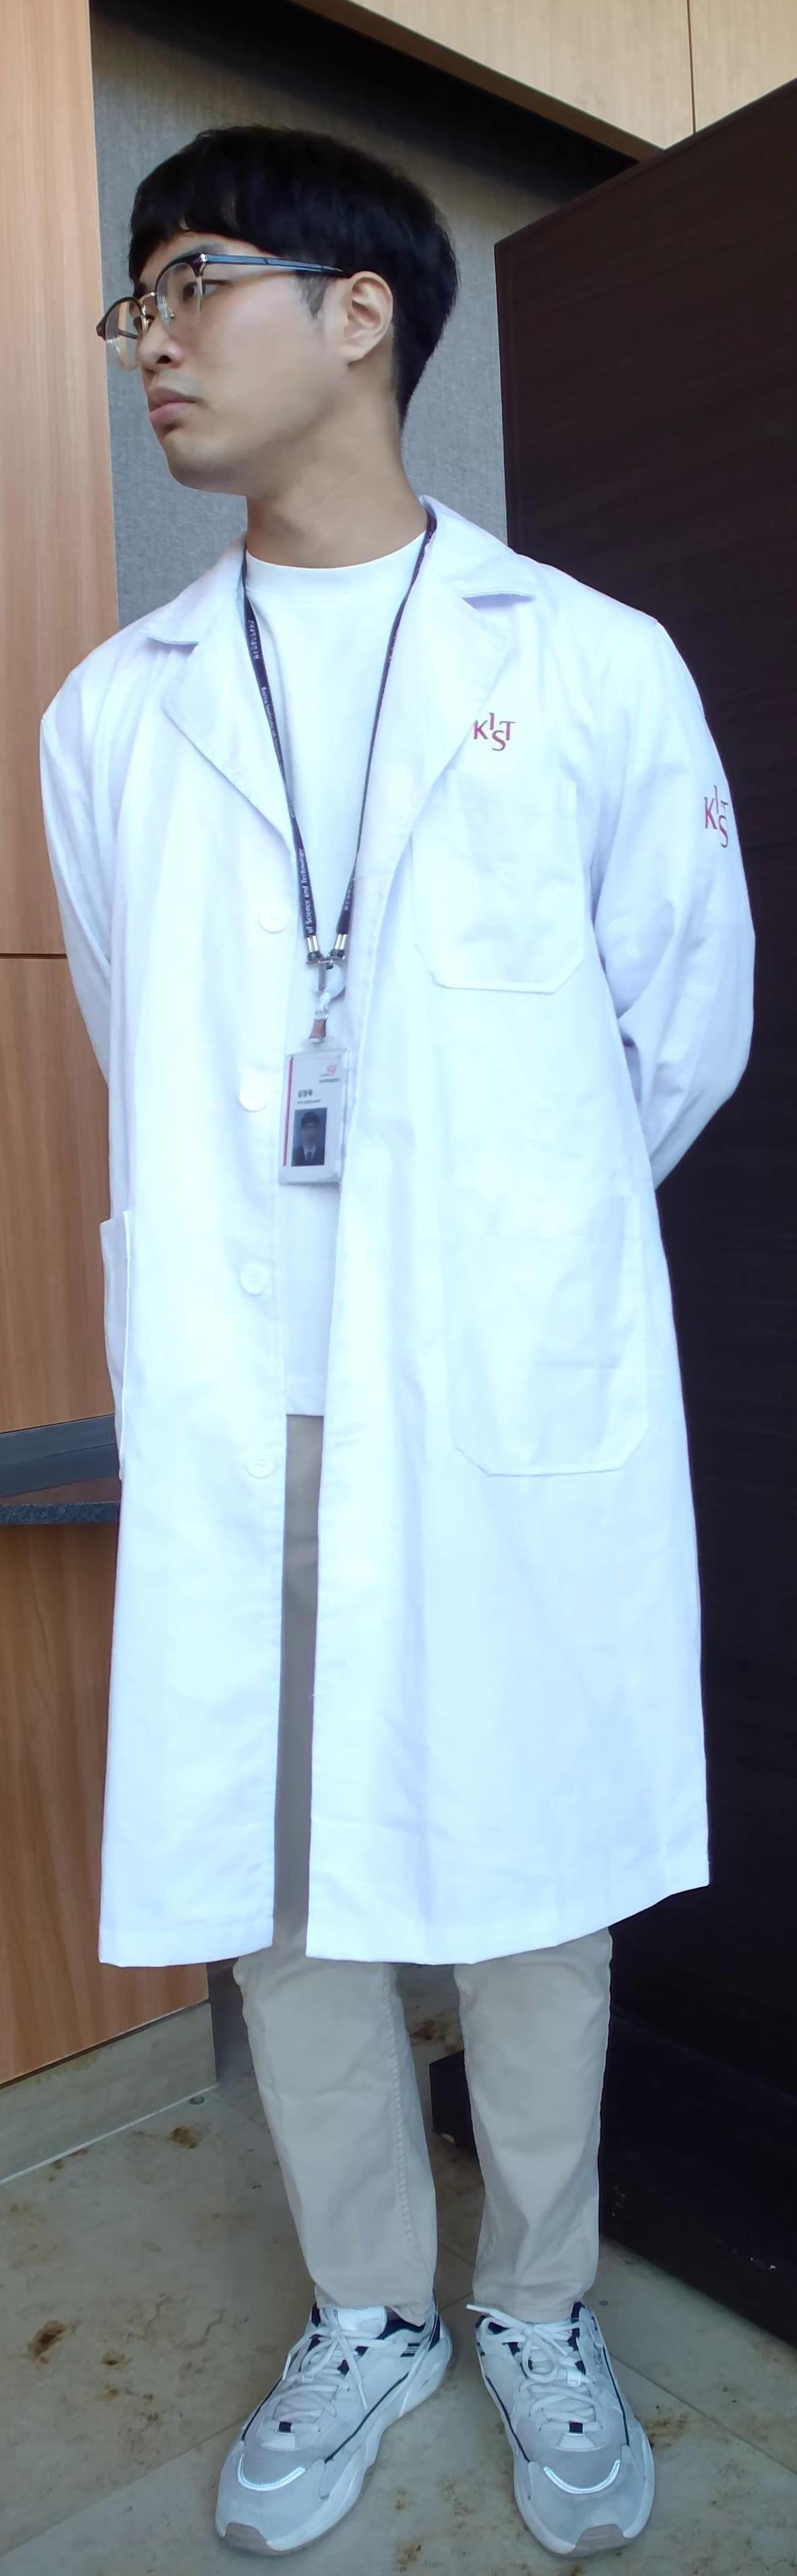lab_coat: (0, 588, 782, 1940)
